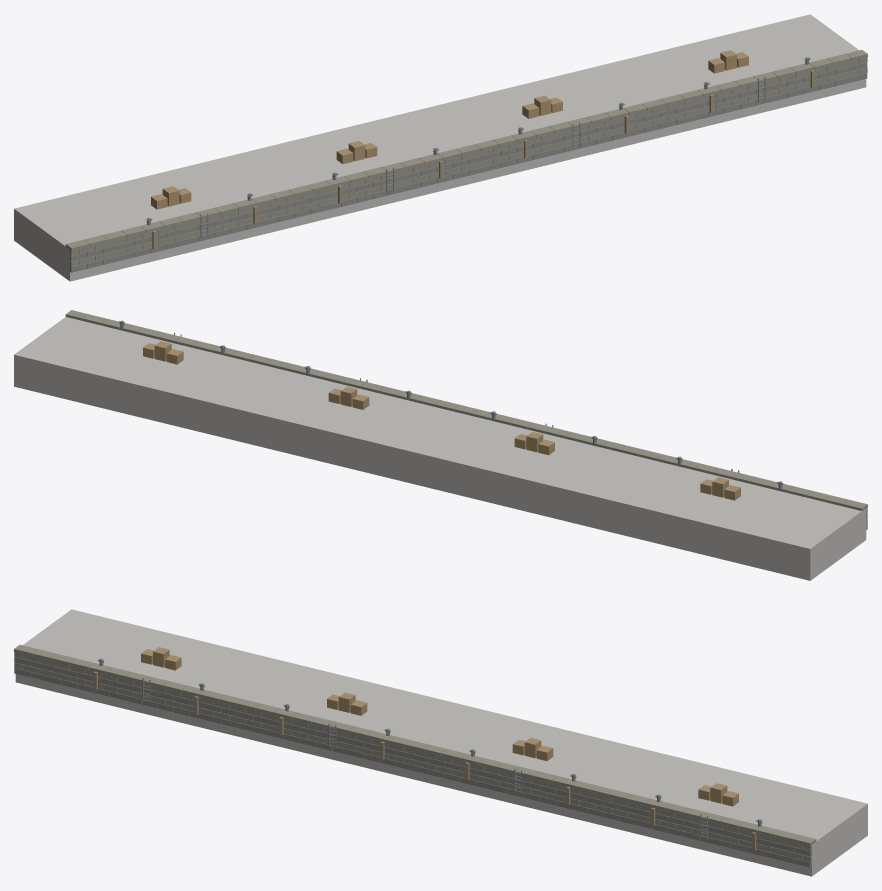
File: harbour-berths.gltf
3 views of the same model, one above another, from view 1: azimuth 30°, elevation 25°; view 2: azimuth 150°, elevation 25°; view 3: azimuth 330°, elevation 25° (orthographic).
Visible parts, largest first — view 1: harbour-berths-quay, harbour-berths-fittings; view 2: harbour-berths-quay, harbour-berths-fittings; view 3: harbour-berths-quay, harbour-berths-fittings.
Boxes of the visible parts, bbox=[...] form: harbour-berths-quay: bbox=[14, 14, 867, 281]; harbour-berths-fittings: bbox=[146, 50, 814, 249]; harbour-berths-quay: bbox=[14, 310, 867, 580]; harbour-berths-fittings: bbox=[118, 320, 783, 500]; harbour-berths-quay: bbox=[14, 609, 867, 876]; harbour-berths-fittings: bbox=[93, 647, 762, 850].
Size of the model in its own units: 60 by 3.27 by 7.68.
